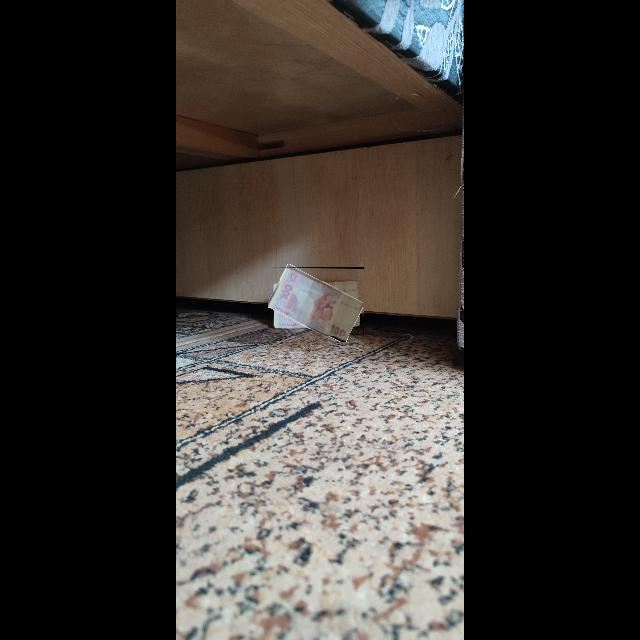100uah: (268, 268, 364, 337)
